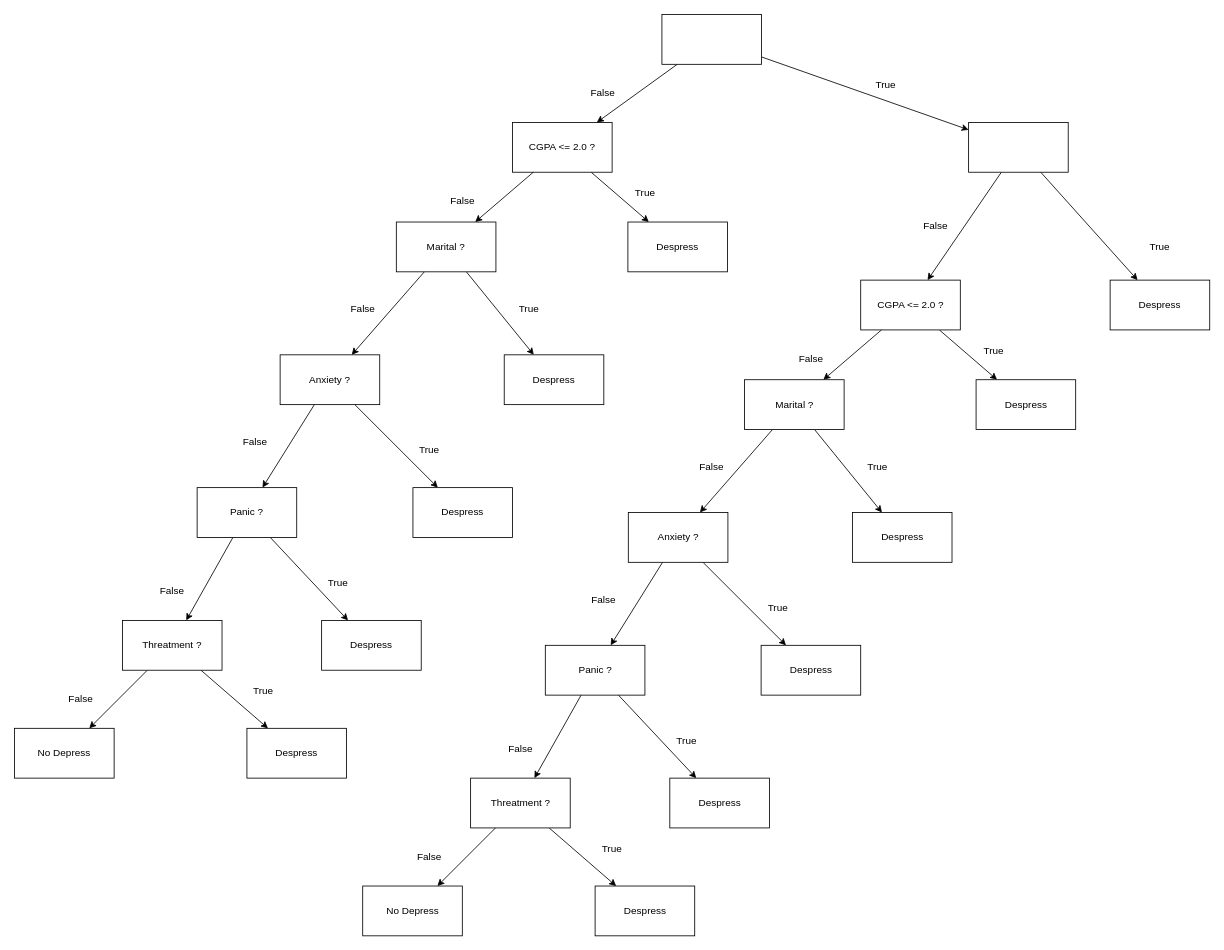
Image size: 1224x950. Some labels were removed from this diagram. Here are the shapes that lost their labels. From the top down, the centre of each, then its label:
At pixel 711 39: "age >=20 ?".
At pixel 1018 147: "Year of Study >= 3 ?".
